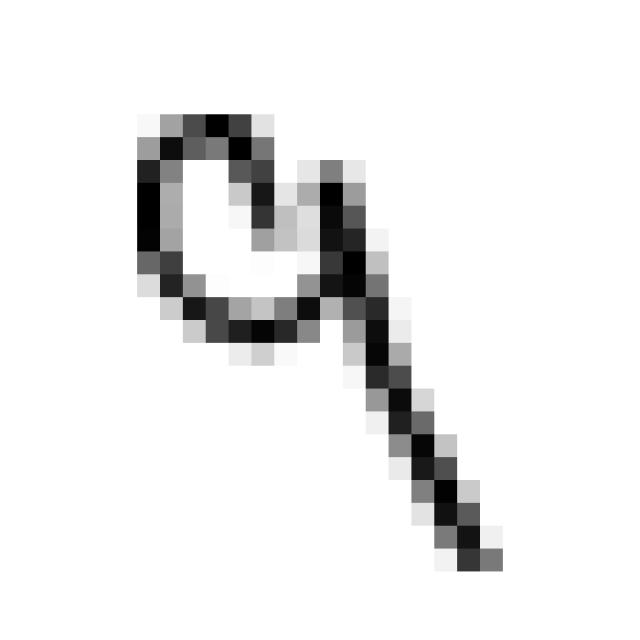9 -nine-: (110, 84, 518, 596)
